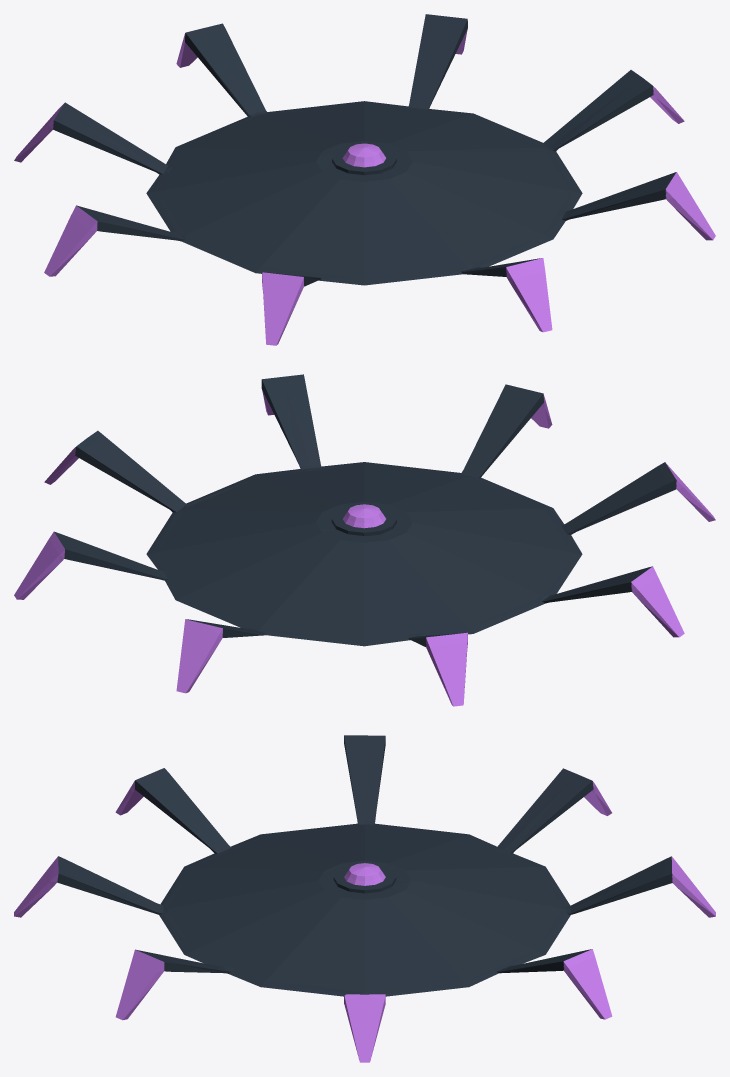
The model's file is Spider_Plant_000012.obj.
3 renders of one model, top to bottom at view 1: azimuth 30°, elevation 25°; view 2: azimuth 150°, elevation 25°; view 3: azimuth 270°, elevation 25°, orthographic. The views are drawn at different scales.
Visible parts, largest first — view 1: Circle_Circle.001; view 2: Circle_Circle.001; view 3: Circle_Circle.001.
Boxes of the visible parts, <box> form: Circle_Circle.001: <box>14,14,715,345</box>; Circle_Circle.001: <box>14,374,715,706</box>; Circle_Circle.001: <box>14,735,715,1062</box>.
Bounding box in the file's own units: 3.36 × 0.2742 × 3.36.
